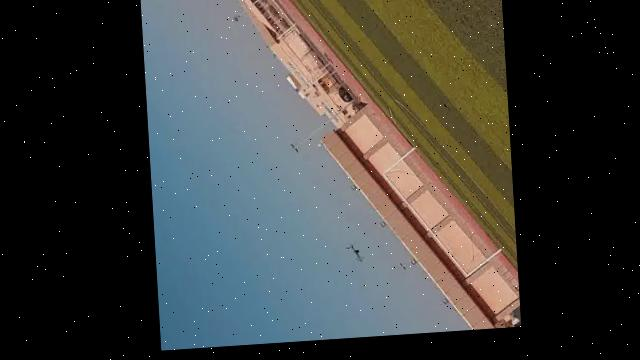drone: (338, 245, 359, 272)
